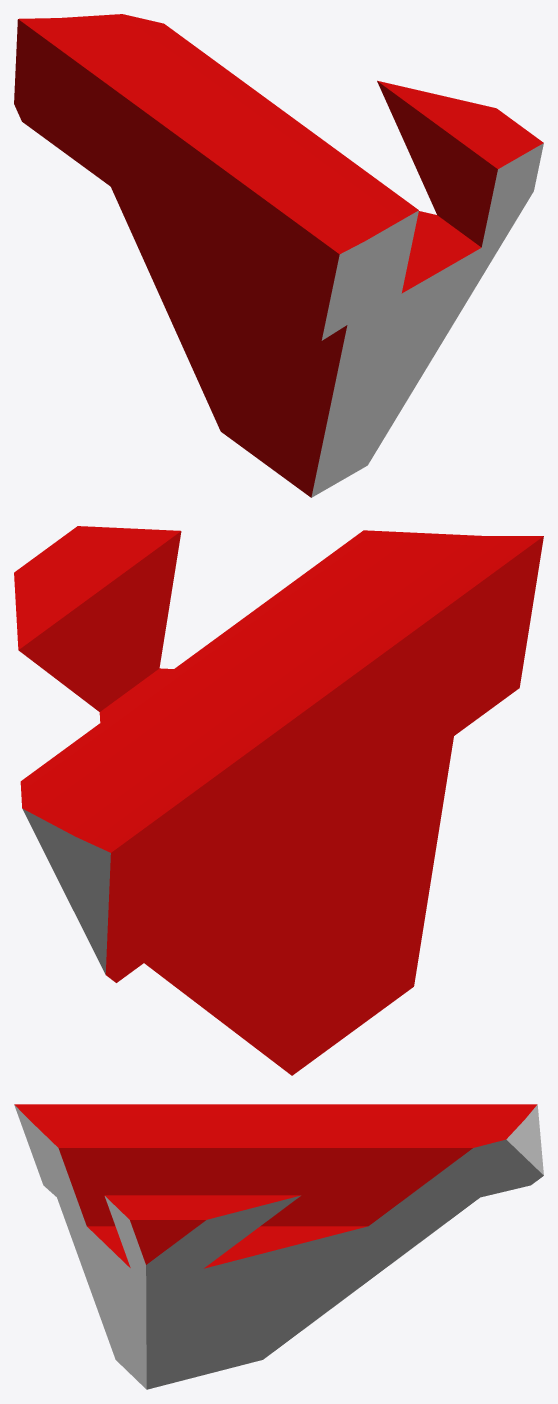
The model's file is mdl_ciudadela_pared_fracturepart5.fbx.
3 renders of one model, top to bottom at view 1: azimuth 30°, elevation 25°; view 2: azimuth 150°, elevation 25°; view 3: azimuth 270°, elevation 25°, orthographic. The views are drawn at different scales.
Parts seen in each view (by area): view 1: mdl_ciudadela_pared_fracturepart5; view 2: mdl_ciudadela_pared_fracturepart5; view 3: mdl_ciudadela_pared_fracturepart5.
Boxes of the visible parts, x1,y1,x2,y2 form: mdl_ciudadela_pared_fracturepart5: (14,14,543,497); mdl_ciudadela_pared_fracturepart5: (14,526,543,1075); mdl_ciudadela_pared_fracturepart5: (14,1104,543,1389).
Size of the model in its own units: 4.07 by 4.21 by 8.35.
